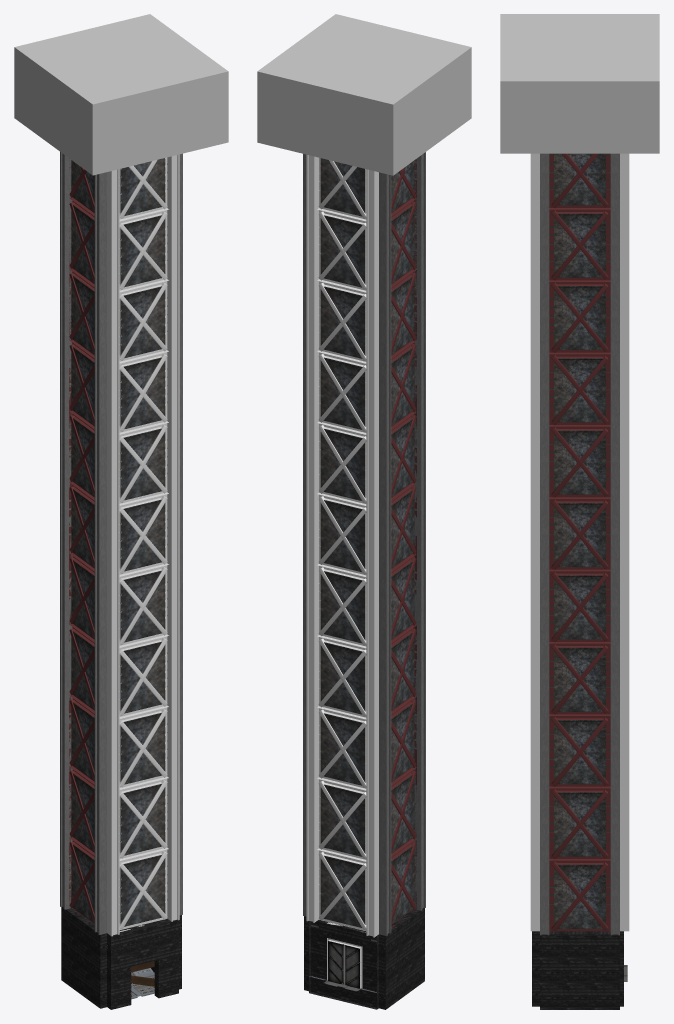
3 views of the same model, side by side, from view 1: azimuth 30°, elevation 25°; view 2: azimuth 150°, elevation 25°; view 3: azimuth 270°, elevation 25° (orthographic).
Parts seen in each view (by area): view 1: PitX.003, Top.003, WallFront, WallSide; view 2: PitX.003, Top.003, WallSide, WallBack, WallBack.Metal; view 3: PitX.003, Top.003, WallSide, WallFront.
Boxes of the visible parts, x1,y1,x2,y2 form: PitX.003: (60, 152, 182, 936); Top.003: (14, 14, 228, 175); WallFront: (107, 919, 178, 1009); WallSide: (61, 906, 181, 1008); PitX.003: (303, 152, 425, 937); Top.003: (257, 14, 471, 175); WallSide: (304, 907, 424, 1009); WallBack: (309, 920, 378, 1009); WallBack.Metal: (327, 938, 362, 988); PitX.003: (530, 153, 629, 935); Top.003: (500, 14, 659, 153); WallSide: (540, 931, 619, 1009); WallFront: (532, 931, 539, 1006).
Size of the model in its own units: 2000 by 13020 by 2000.
